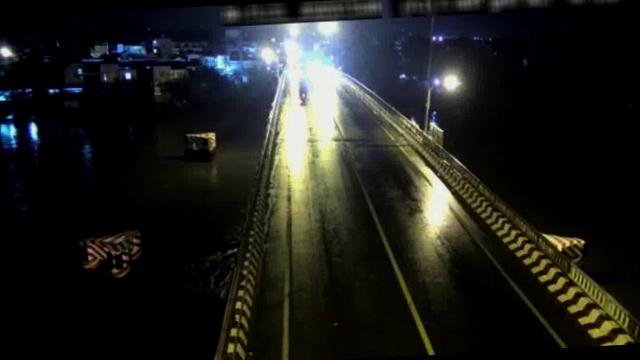Bike: (298, 80, 310, 103)
